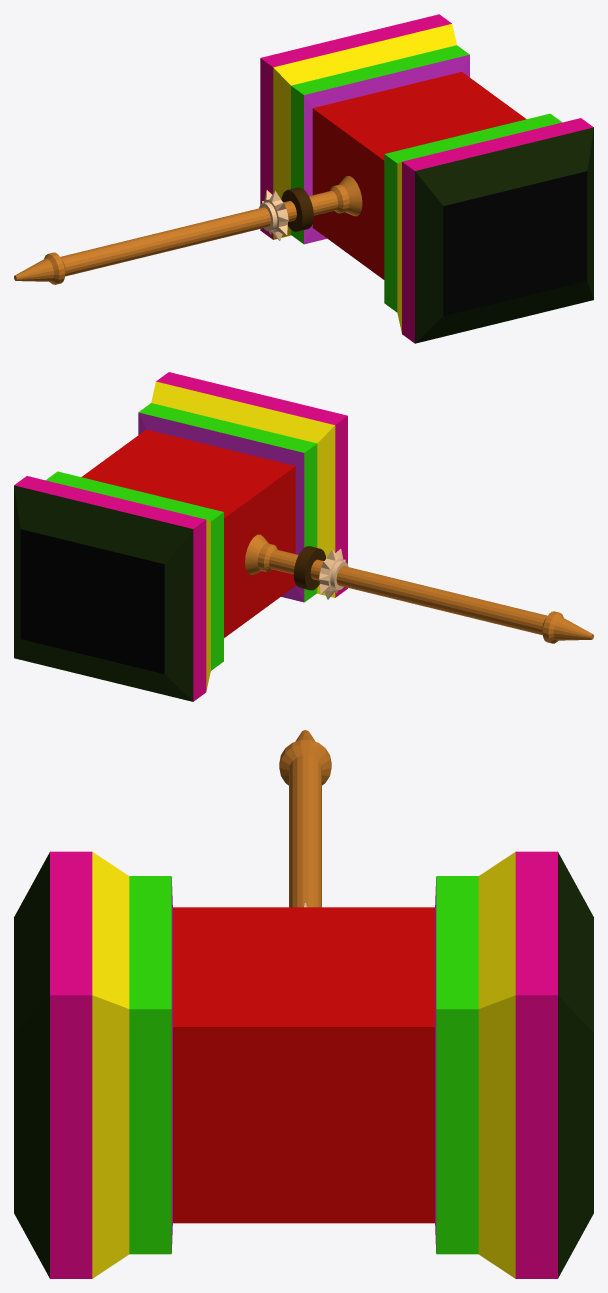
Rendered from hammer.fbx.
3 views of the same model, one above another, from view 1: azimuth 30°, elevation 25°; view 2: azimuth 150°, elevation 25°; view 3: azimuth 270°, elevation 25° (orthographic). The views are drawn at different scales.
Visible parts, largest first — view 1: Box001, Cylinder001, Cylinder002, Cylinder003; view 2: Box001, Cylinder001, Cylinder002, Cylinder003; view 3: Box001, Cylinder001.
Part boxes in pixels (left/top/right/bottom): Box001: left=260, top=14, right=593, bottom=343; Cylinder001: left=14, top=176, right=362, bottom=284; Cylinder002: left=281, top=187, right=313, bottom=231; Cylinder003: left=259, top=190, right=288, bottom=240; Box001: left=14, top=372, right=347, bottom=701; Cylinder001: left=245, top=534, right=593, bottom=643; Cylinder002: left=293, top=546, right=325, bottom=590; Cylinder003: left=319, top=549, right=348, bottom=599; Box001: left=14, top=851, right=593, bottom=1278; Cylinder001: left=279, top=730, right=331, bottom=907.
Bounding box in the file's own units: 147 × 48.3 × 89.53.
